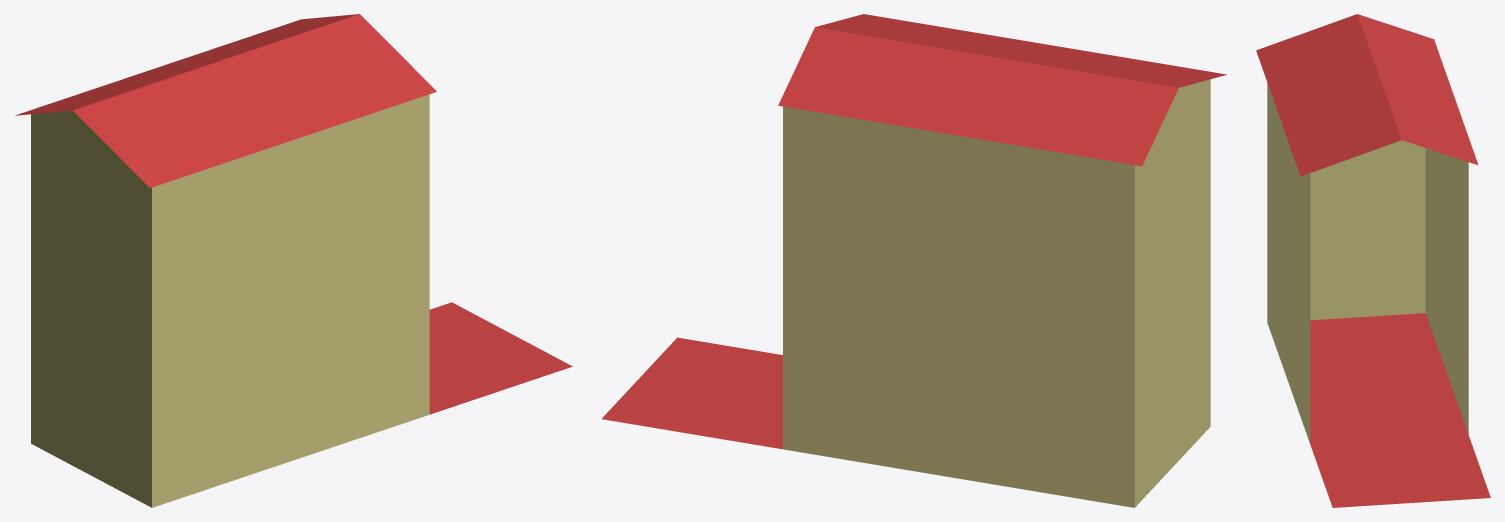
3 renders of one model, left to right at view 1: azimuth 30°, elevation 25°; view 2: azimuth 150°, elevation 25°; view 3: azimuth 270°, elevation 25°, orthographic. The views are drawn at different scales.
Bounding box in the file's own units: 11.82 × 5.88 × 8.26.
